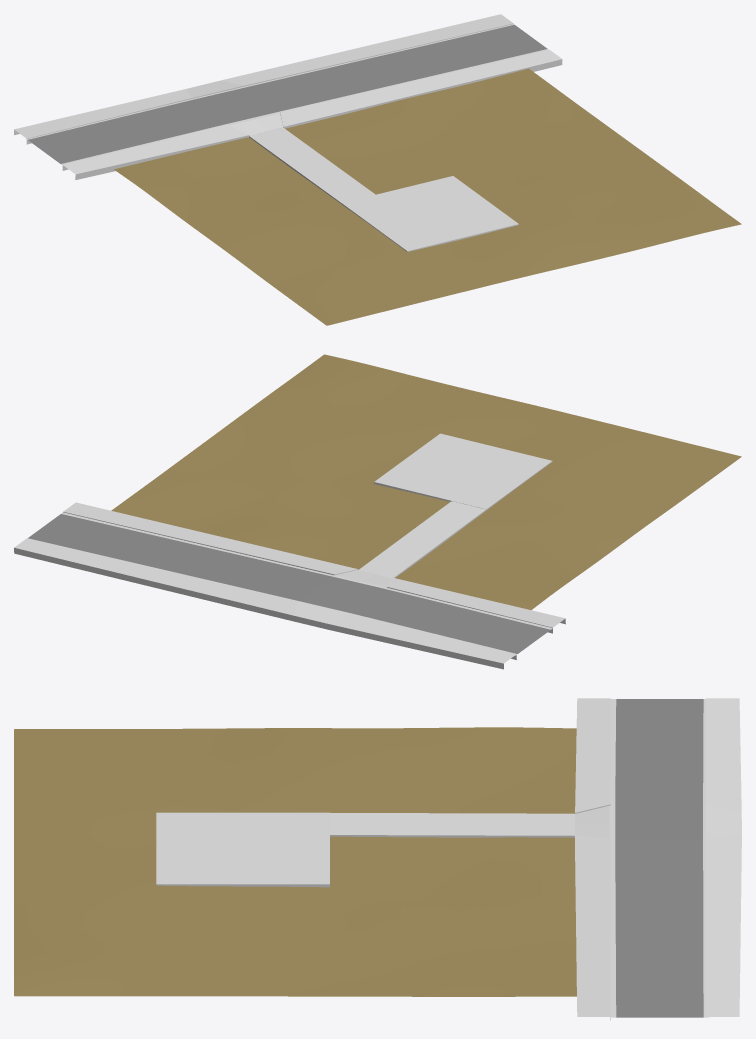
File: Ground.fbx
3 renders of one model, top to bottom at view 1: azimuth 30°, elevation 25°; view 2: azimuth 150°, elevation 25°; view 3: azimuth 270°, elevation 25°, orthographic. The views are drawn at different scales.
Visible parts, largest first — view 1: Plane, Plane.011, Plane.004, Plane.001, Plane.010, Plane.002, Plane.003; view 2: Plane, Plane.011, Plane.010, Plane.001, Plane.004, Plane.002, Plane.003; view 3: Plane, Plane.011, Plane.001, Plane.010, Plane.004, Plane.002, Plane.003.
Boxes of the visible parts, x1,y1,x2,y2 form: Plane: (114,68,741,325); Plane.011: (28,24,547,163); Plane.004: (62,50,562,180); Plane.001: (341,176,518,251); Plane.010: (14,14,513,144); Plane.002: (249,127,375,203); Plane.003: (26,24,548,165); Plane: (111,354,741,610); Plane.011: (28,514,550,653); Plane.010: (14,538,516,669); Plane.001: (374,433,552,510); Plane.004: (63,502,565,633); Plane.002: (359,501,486,578); Plane.003: (27,512,552,655); Plane: (14,727,576,996); Plane.011: (615,699,703,1017); Plane.001: (156,812,329,887); Plane.010: (706,698,741,1016); Plane.004: (574,698,610,1020); Plane.002: (330,813,575,837); Plane.003: (575,699,709,1017).
Bounding box in the file's own units: 97.79 × 1.88 × 95.87.
